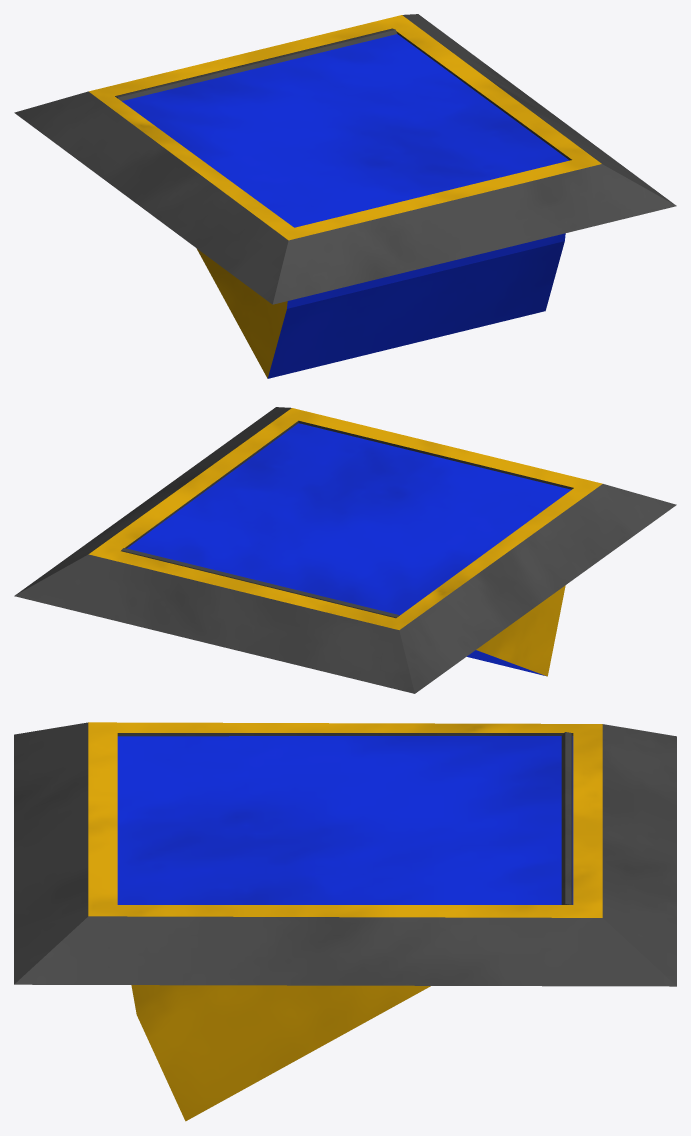
The model's file is SM_RampToggleable.fbx.
3 renders of one model, top to bottom at view 1: azimuth 30°, elevation 25°; view 2: azimuth 150°, elevation 25°; view 3: azimuth 270°, elevation 25°, orthographic. The views are drawn at different scales.
Parts seen in each view (by area): view 1: SM_RampBlue, SM_RampFrame; view 2: SM_RampFrame, SM_RampBlue; view 3: SM_RampBlue, SM_RampFrame.
Part boxes in pixels (x1,y1,x2,y2): SM_RampBlue: [115, 29, 569, 378]; SM_RampFrame: [14, 14, 676, 304]; SM_RampFrame: [14, 407, 676, 693]; SM_RampBlue: [121, 423, 571, 676]; SM_RampBlue: [117, 732, 573, 1121]; SM_RampFrame: [14, 722, 676, 986].
Bounding box in the file's own units: 3.51 × 1.42 × 3.91.
